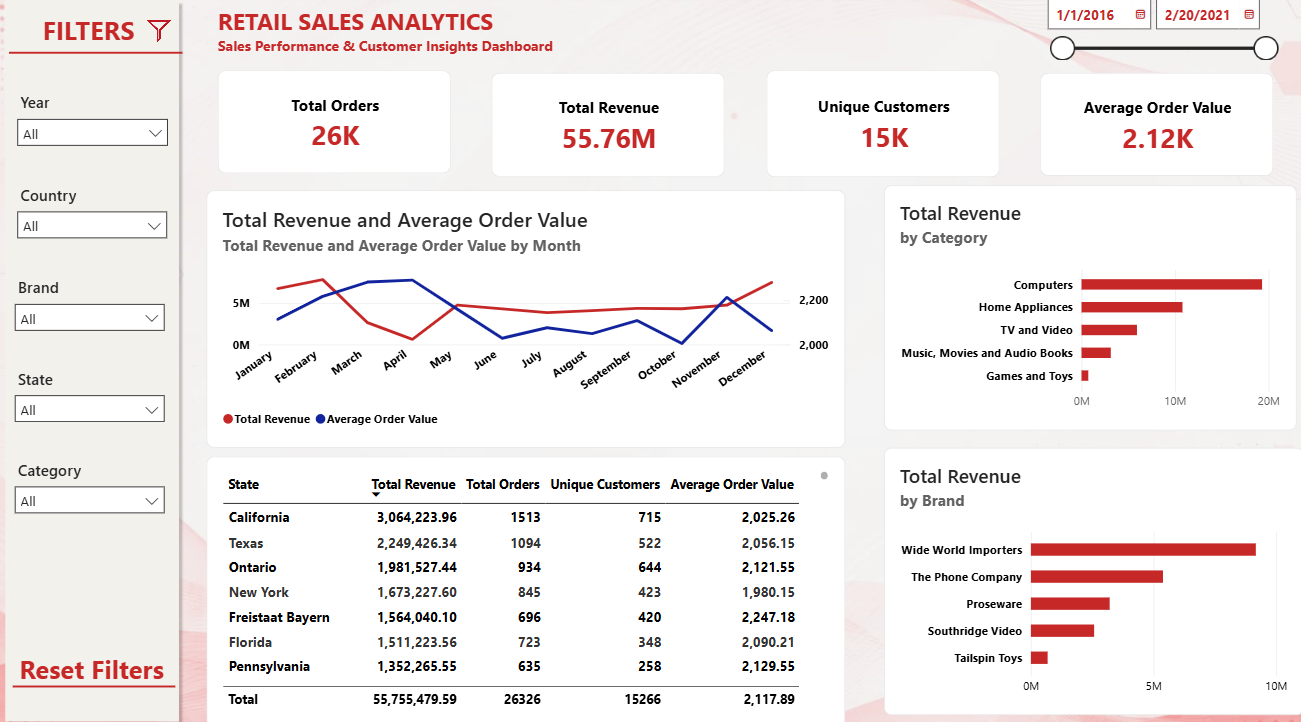

The page's visual inventory and layout, read from the dashboard file:
{"tool":"powerbi","page":{"name":"executive overview","canvas":[1366,768],"ordinal":0},"visuals":[{"type":"shape","box":[0,0,195,768.3],"z":0},{"type":"textbox","box":[26.2,19.6,129.6,41.9],"z":1000},{"type":"image","box":[142.7,11.8,49.7,56.3],"z":2000},{"type":"slicer","fields":{"Values":["Products.Brand"]},"box":[11.8,295.8,166.2,69.4],"z":3000},{"type":"slicer","fields":{"Values":["Customers.Country"]},"box":[14.4,198.9,166.2,70.7],"z":4000},{"type":"slicer","fields":{"Values":["Products.Category"]},"box":[11.8,486.9,166.2,69.4],"z":5000},{"type":"slicer","fields":{"Values":["Customers.State"]},"box":[11.8,391.3,166.2,69.4],"z":6000},{"type":"slicer","fields":{"Values":["Sales.Year"]},"box":[14.4,102.1,167.5,70.7],"z":8000},{"type":"shape","box":[10.5,47.1,181.9,28.8],"z":9000},{"type":"textbox","box":[229,11.8,366.5,85.1],"z":10000},{"type":"cardVisual","fields":{"Data":["_measures.total_orders"]},"box":[229,80.3,244.7,108.6],"z":11000},{"type":"cardVisual","fields":{"Data":["_measures.total_revenue"]},"box":[515.7,82.5,244.7,109.9],"z":12000},{"type":"cardVisual","fields":{"Data":["_measures.Unique Customers"]},"box":[803.7,80.1,244.8,112.4],"z":13000},{"type":"cardVisual","fields":{"Data":["_measures.avg_order_value"]},"box":[1090.2,82.5,244.7,108.6],"z":14000},{"type":"lineChart","title":"Total Revenue and Average Order Value","fields":{"Y":["_measures.total_revenue"],"Category":["Sales.Order Date.Variation.Date Hierarchy.Month"],"Y2":["_measures.avg_order_value"]},"box":[217.3,205.5,668.8,269.6],"z":15000},{"type":"clusteredBarChart","fields":{"Category":["Products.Category"],"Y":["_measures.total_revenue"]},"box":[926.6,200.2,431.9,256.5],"z":16000},{"type":"clusteredBarChart","fields":{"Category":["Products.Brand"],"Y":["_measures.total_revenue"]},"box":[926.6,475.1,439.8,280.1],"z":17000},{"type":"tableEx","fields":{"Values":["Customers.State","_measures.total_revenue","_measures.total_orders","_measures.unique_customer","_measures.avg_order_value"]},"box":[217.3,484.3,668.8,284],"z":18000},{"type":"slicer","fields":{"Values":["Sales.Order Date"]},"box":[1090.2,0,252.6,69.4],"z":19000},{"type":"actionButton","box":[11.8,647.9,175.4,107.3],"z":20000},{"type":"textbox","box":[12.3,688.2,170.9,37],"z":21000},{"type":"shape","box":[14.4,718.5,170.1,13.1],"z":22000}]}

Visuals, with their boxes in screenshot pixels (x1, y1, x2, y2), scaled from the page's 1366x768 canvas onto the 1301x722 screenshot:
shape: [left=0, top=0, right=186, bottom=721]
textbox: [left=25, top=18, right=148, bottom=58]
image: [left=136, top=11, right=183, bottom=64]
slicer - Products.Brand: [left=11, top=278, right=170, bottom=343]
slicer - Customers.Country: [left=14, top=187, right=172, bottom=253]
slicer - Products.Category: [left=11, top=458, right=170, bottom=523]
slicer - Customers.State: [left=11, top=368, right=170, bottom=433]
slicer - Sales.Year: [left=14, top=96, right=173, bottom=162]
shape: [left=10, top=44, right=183, bottom=71]
textbox: [left=218, top=11, right=567, bottom=91]
cardVisual - _measures.total_orders: [left=218, top=75, right=451, bottom=178]
cardVisual - _measures.total_revenue: [left=491, top=78, right=724, bottom=181]
cardVisual - _measures.Unique Customers: [left=765, top=75, right=999, bottom=181]
cardVisual - _measures.avg_order_value: [left=1038, top=78, right=1271, bottom=180]
"Total Revenue and Average Order Value" lineChart: [left=207, top=193, right=844, bottom=447]
clusteredBarChart - Products.Category x _measures.total_revenue: [left=883, top=188, right=1294, bottom=429]
clusteredBarChart - Products.Brand x _measures.total_revenue: [left=883, top=447, right=1300, bottom=710]
tableEx - Customers.State x _measures.total_revenue: [left=207, top=455, right=844, bottom=721]
slicer - Sales.Order Date: [left=1038, top=0, right=1279, bottom=65]
actionButton: [left=11, top=609, right=178, bottom=710]
textbox: [left=12, top=647, right=174, bottom=682]
shape: [left=14, top=675, right=176, bottom=688]
